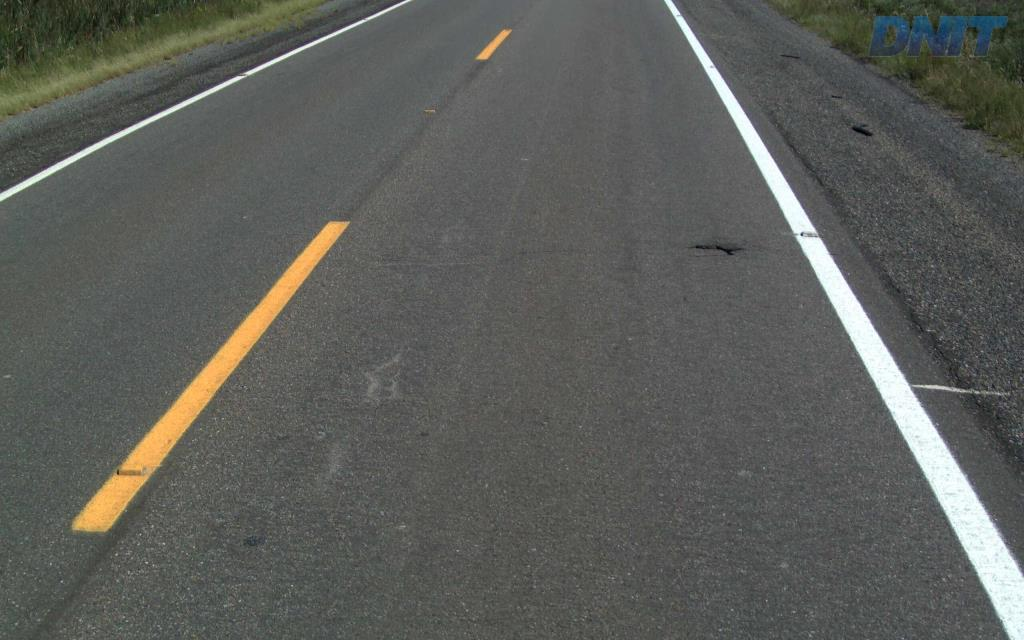crack: (687, 240, 746, 255)
pothole: (686, 235, 750, 259)
